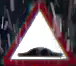Speed Breaker ahead: (3, 3, 73, 65)
